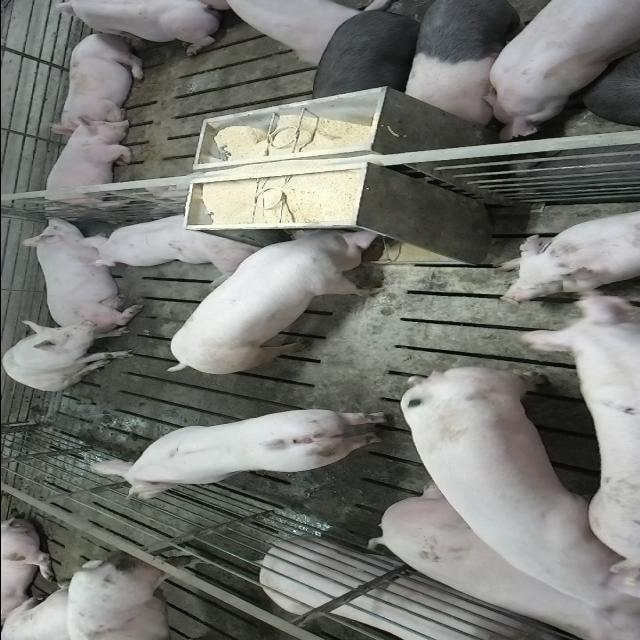Feeding: (166, 218, 390, 369)
Lateral_lying: (256, 537, 588, 640)
Sitting: (2, 320, 136, 391)
Standing: (380, 363, 630, 630), (370, 485, 640, 640), (80, 407, 387, 502), (476, 1, 640, 141), (401, 2, 558, 130), (305, 1, 431, 103)
Sternal_lying: (13, 209, 143, 323), (496, 203, 640, 303), (513, 295, 640, 388), (78, 210, 258, 273), (36, 115, 138, 215), (42, 3, 226, 57), (51, 31, 148, 130)
